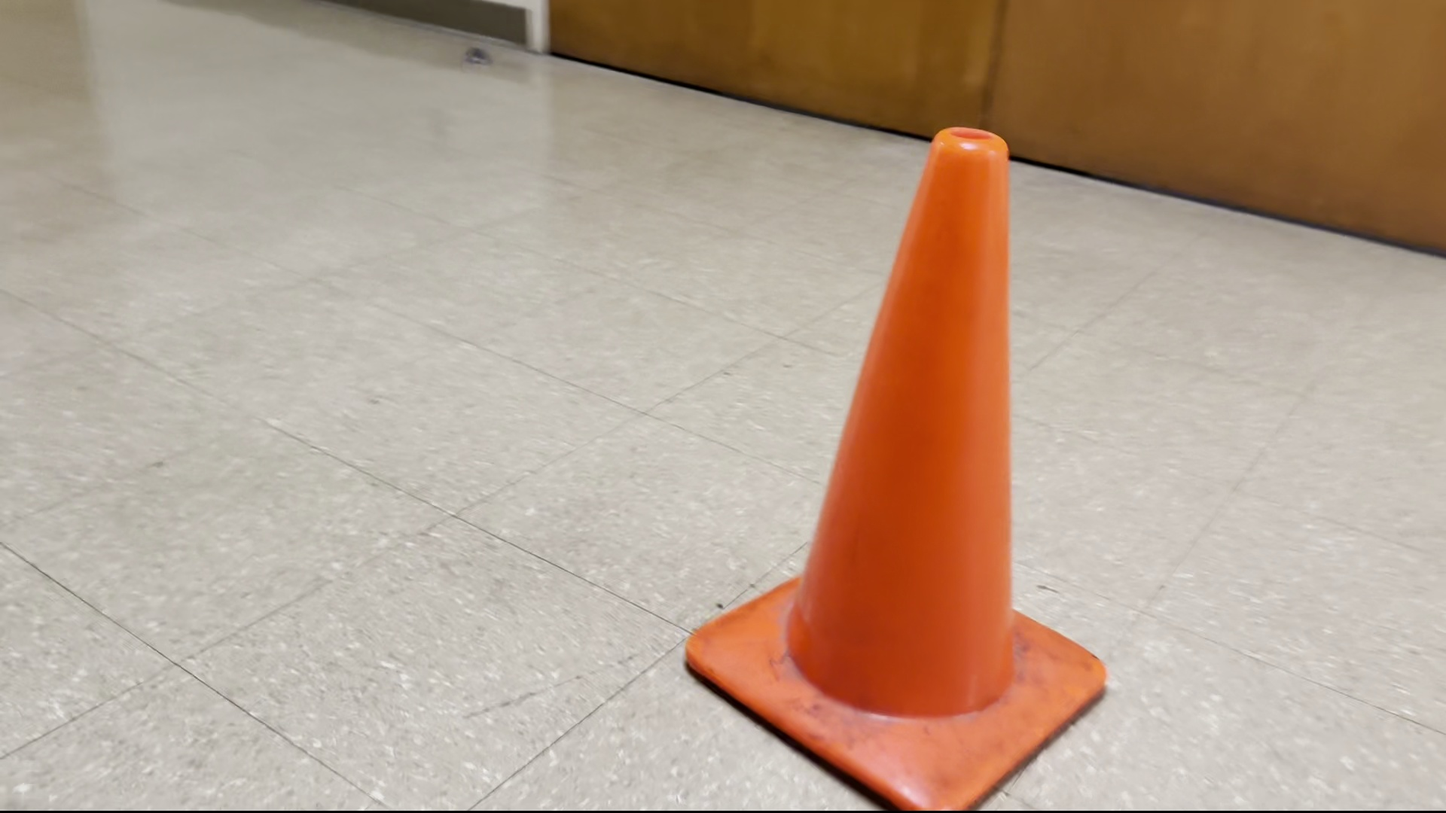traffic_cone: (683, 125, 1108, 811)
